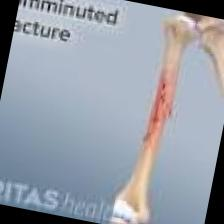avulsion-fracture: (99, 4, 224, 224)
